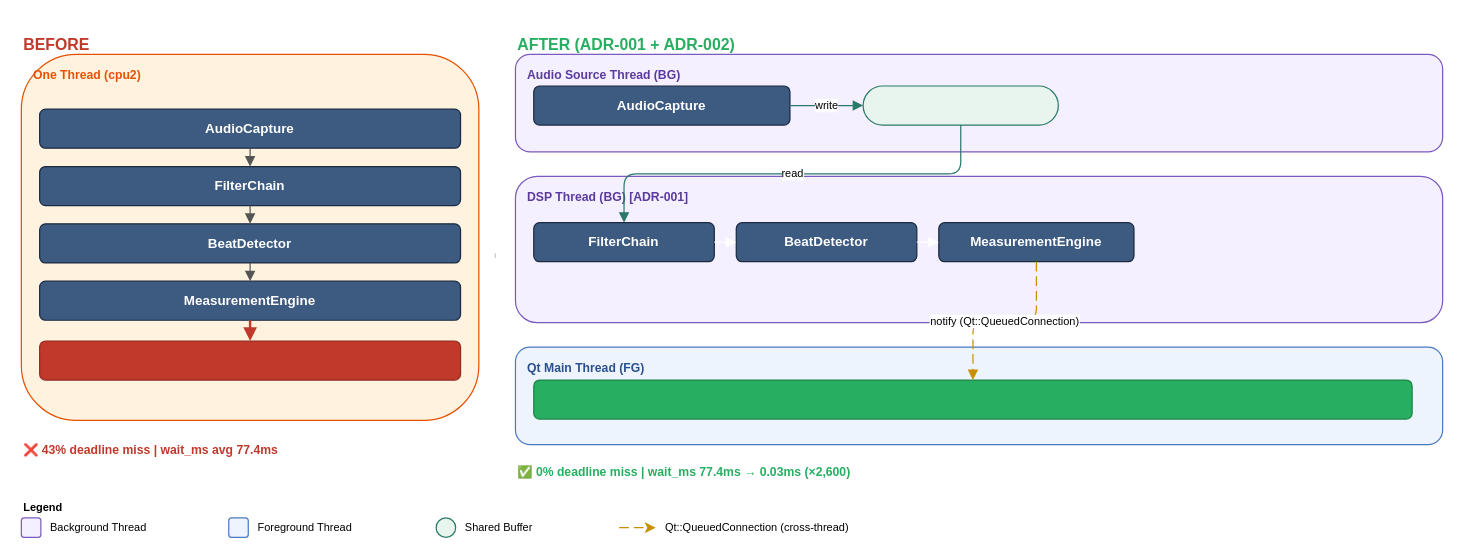
This 1464x559 diagram has some shape labels left out. Each missing label, with the centre of its shape:
"Audio Buffer" goes at point (960, 105).
"Render visible tab only [ADR-002]" goes at point (972, 399).
"renderAllTabs() ⚠ bottleneck" goes at point (249, 360).
